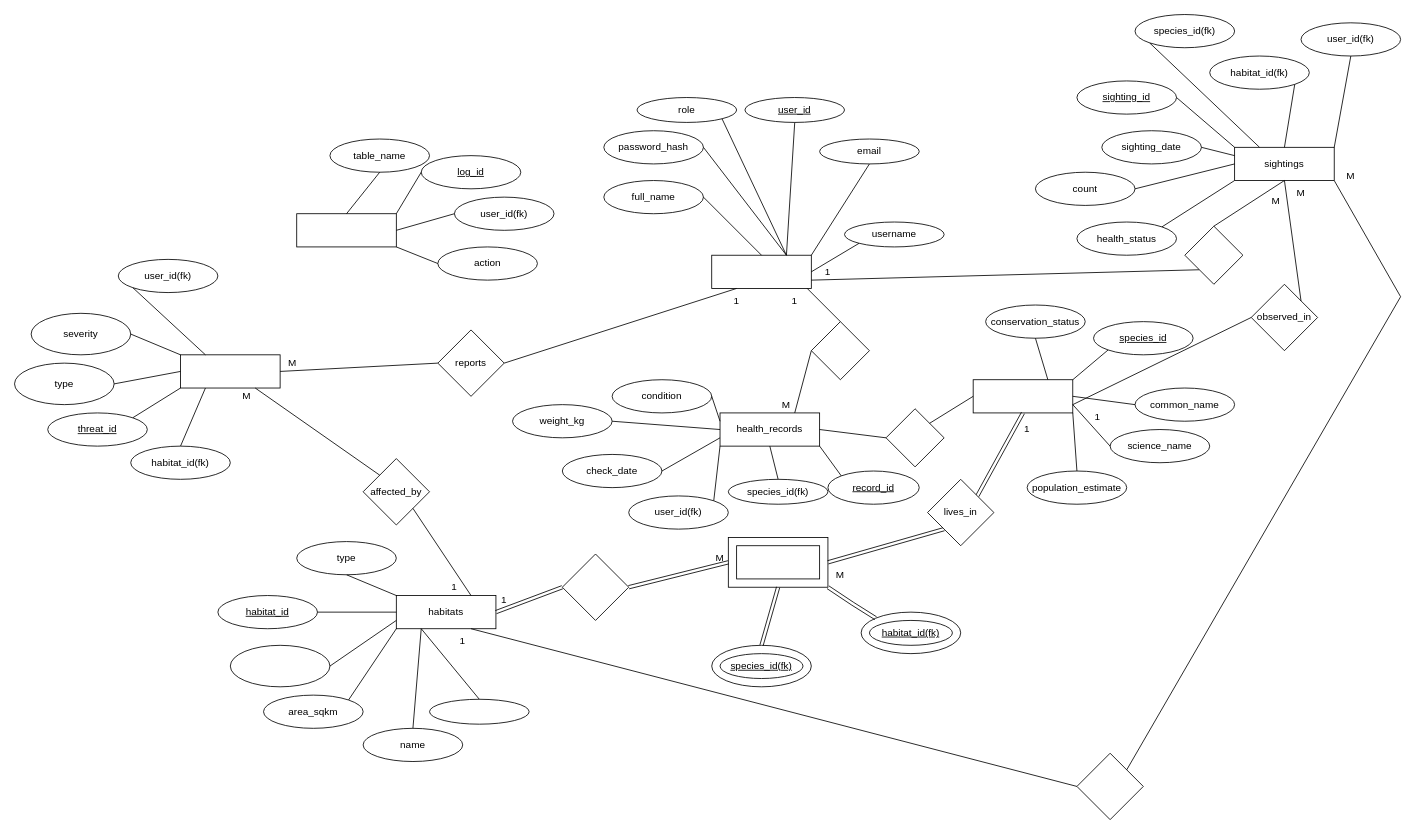
This 1416x834 diagram has some shape labels left out. Each missing label, with the centre of its shape:
"audit_log" goes at (x=346, y=230).
"contains" goes at (x=595, y=586).
"has" goes at (x=914, y=437).
"latitude" goes at (x=479, y=711).
"located in" goes at (x=1109, y=786).
"logs" goes at (x=1213, y=254).
"longitude" goes at (x=279, y=665).
"performs" goes at (x=839, y=350).
"species" goes at (x=1022, y=396).
"species_habitat" goes at (x=778, y=562).
"threats" goes at (x=230, y=371).
"users" goes at (x=761, y=271).
